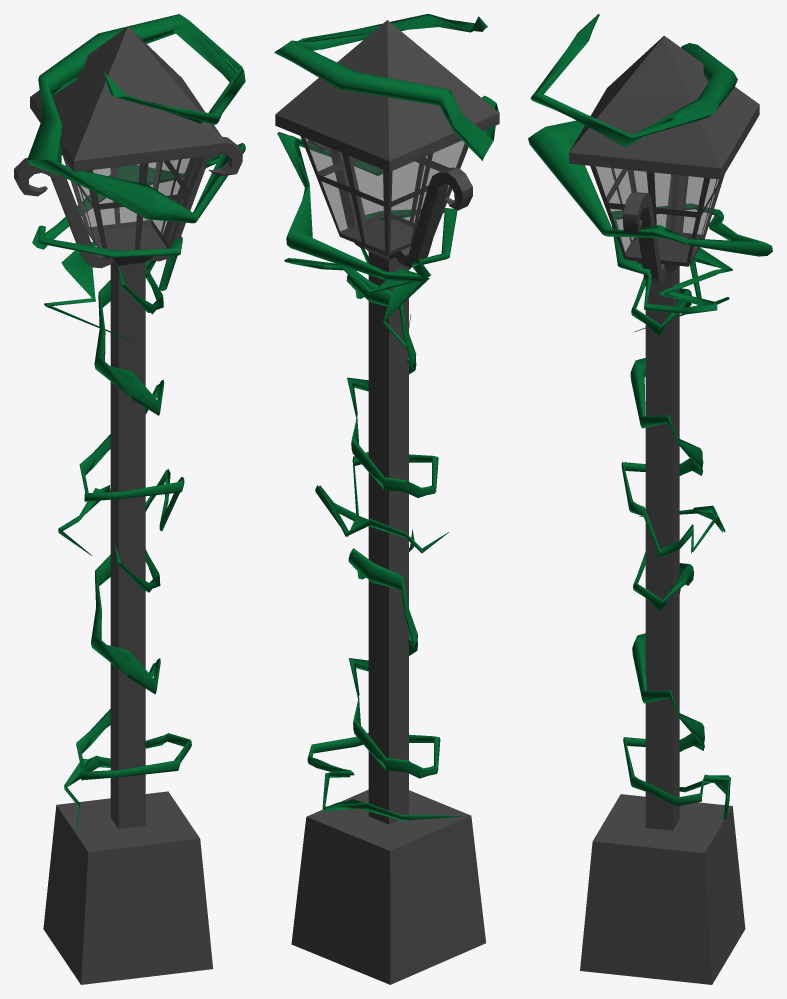
Rendered from lamp post (2).fbx.
The picture shows the model from 3 angles, left to right: view 1: azimuth 30°, elevation 25°; view 2: azimuth 150°, elevation 25°; view 3: azimuth 270°, elevation 25°; orthographic projection.
Visible parts, largest first — view 1: post_lamp, vine_3, vine_2, vine_1; view 2: post_lamp, vine_3, vine_2, vine_1; view 3: post_lamp, vine_3, vine_2, vine_1.
Boxes of the visible parts, x1,y1,x2,y2 form: post_lamp: (14, 26, 242, 984); vine_3: (27, 14, 245, 342); vine_2: (64, 543, 191, 836); vine_1: (58, 262, 184, 555); post_lamp: (275, 20, 499, 984); vine_3: (274, 14, 498, 347); vine_2: (307, 529, 462, 820); vine_1: (315, 267, 448, 553); post_lamp: (569, 35, 759, 984); vine_3: (528, 14, 772, 332); vine_2: (623, 552, 730, 819); vine_1: (621, 276, 725, 557).
Bounding box in the file's own units: 3.65 × 15.25 × 3.7.
